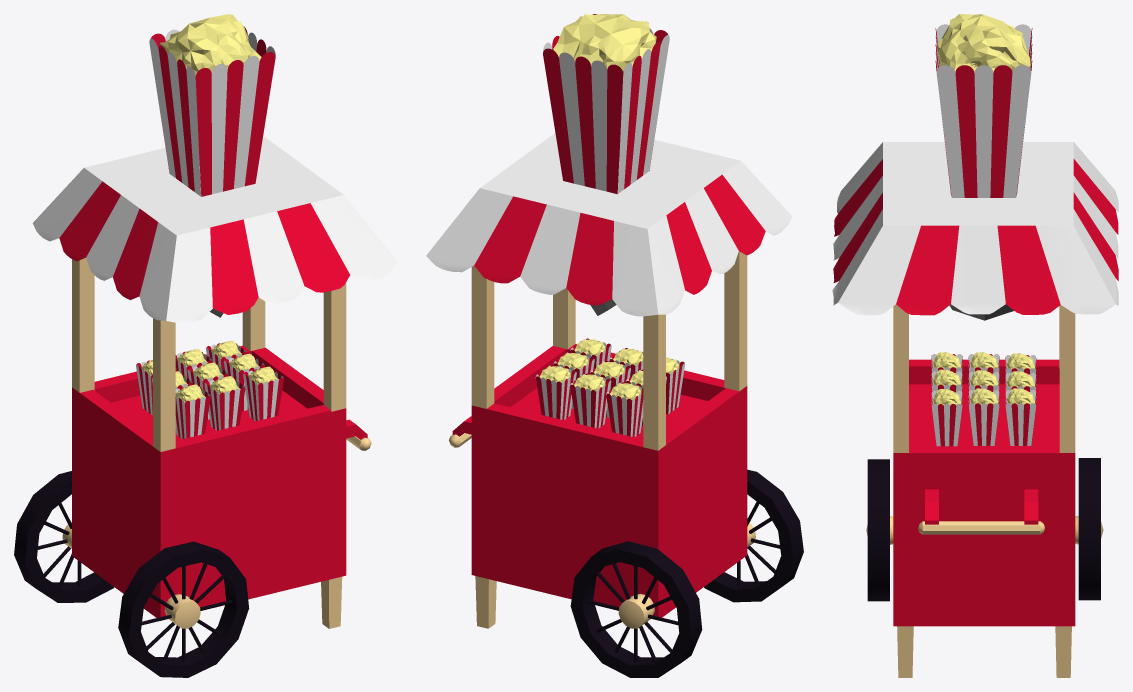
File: SM_Popcorn_Machine.fbx
The picture shows the model from 3 angles, left to right: view 1: azimuth 30°, elevation 25°; view 2: azimuth 150°, elevation 25°; view 3: azimuth 270°, elevation 25°; orthographic projection. The views are drawn at different scales.
Parts seen in each view (by area): view 1: SM_Popcorn_Machine; view 2: SM_Popcorn_Machine; view 3: SM_Popcorn_Machine.
Part boxes in pixels (x1,y1,x2,y2): SM_Popcorn_Machine: [14, 14, 397, 677]; SM_Popcorn_Machine: [426, 14, 803, 677]; SM_Popcorn_Machine: [832, 14, 1118, 677].
Size of the model in its own units: 523 by 1102 by 466.
